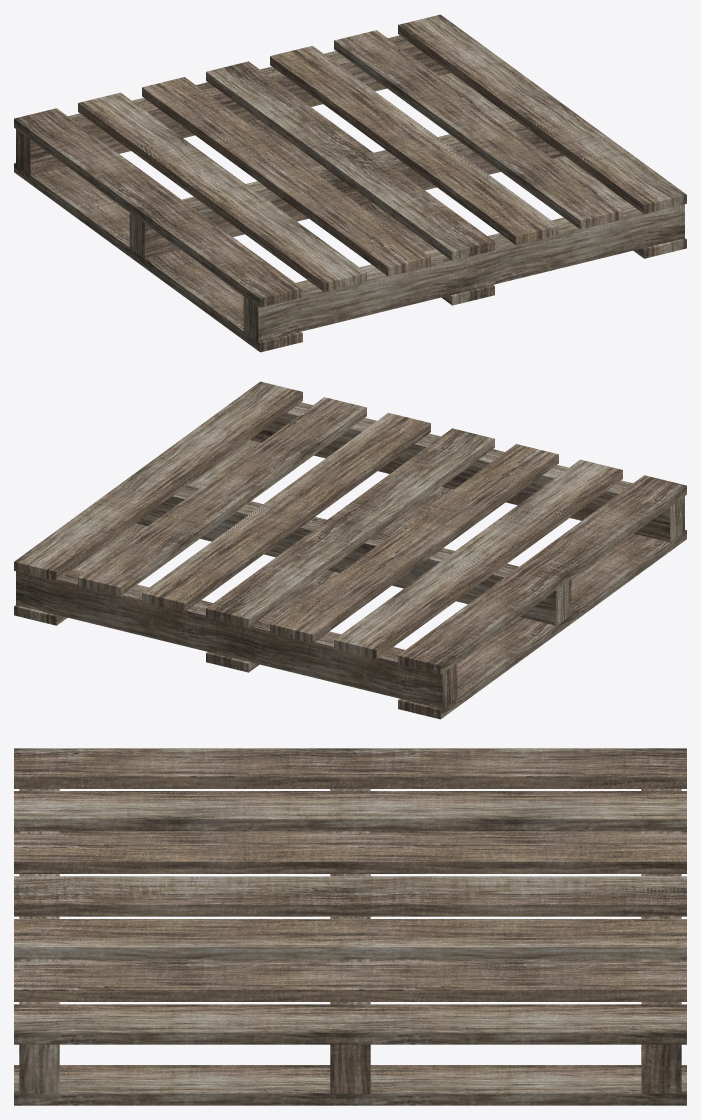
The model's file is Pallet.fbx.
3 views of the same model, one above another, from view 1: azimuth 30°, elevation 25°; view 2: azimuth 150°, elevation 25°; view 3: azimuth 270°, elevation 25° (orthographic). The views are drawn at different scales.
Visible parts, largest first — view 1: Model; view 2: Model; view 3: Model.
Part boxes in pixels (x1,y1,x2,y2): Model: (14, 14, 686, 352); Model: (14, 381, 686, 719); Model: (14, 748, 686, 1105).
Bounding box in the file's own units: 49.21 × 5.91 × 49.21.
